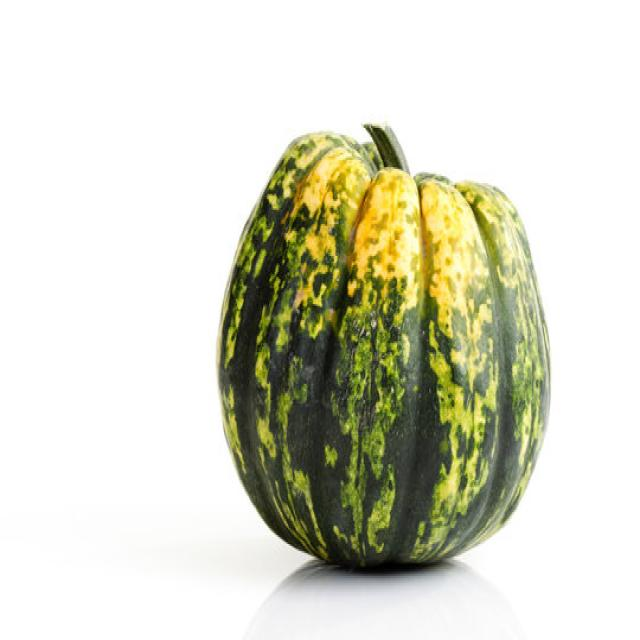Pumpkin: (215, 121, 551, 569)
